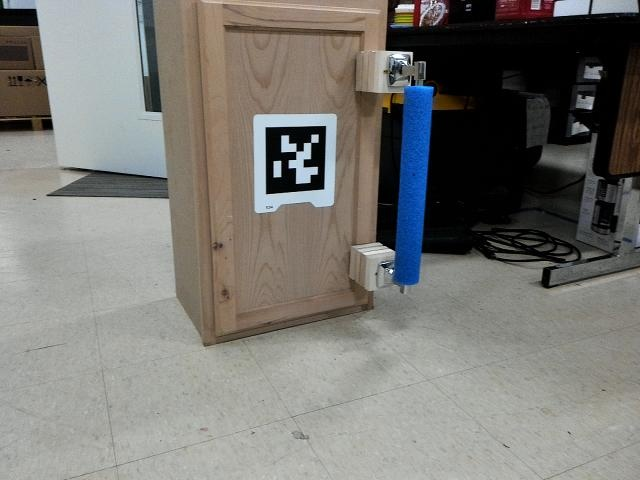noodle_handle: (379, 71, 440, 288)
